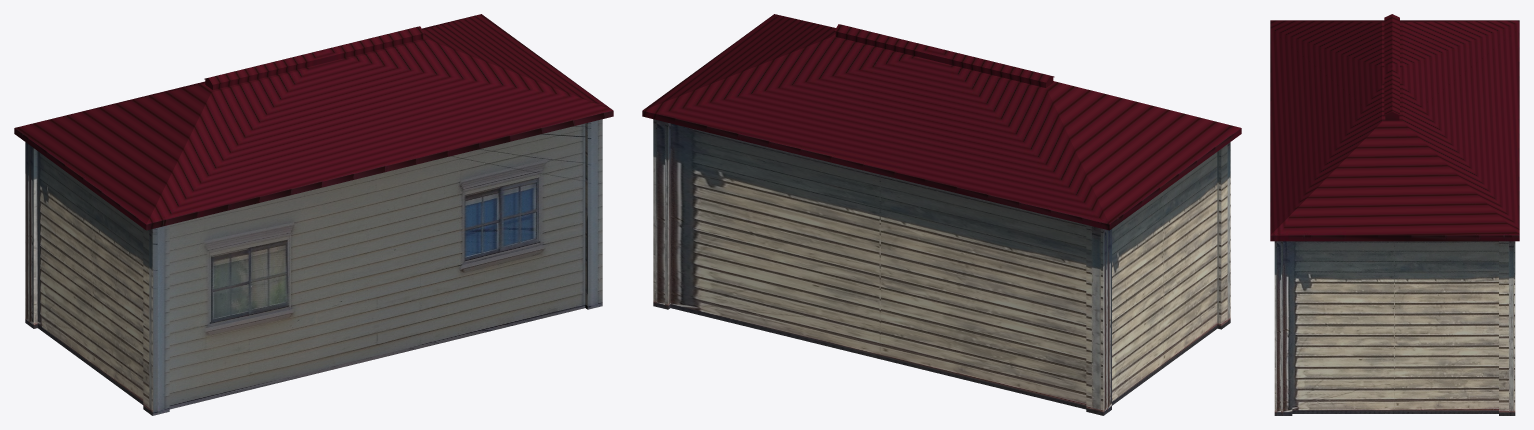
The model's file is house_top1.dae.
3 renders of one model, left to right at view 1: azimuth 30°, elevation 25°; view 2: azimuth 150°, elevation 25°; view 3: azimuth 270°, elevation 25°, orthographic. The views are drawn at different scales.
Visible parts, largest first — view 1: 立方体.3; view 2: 立方体.3; view 3: 立方体.3.
Boxes of the visible parts, x1,y1,x2,y2 form: 立方体.3: (14, 14, 613, 415); 立方体.3: (642, 14, 1241, 415); 立方体.3: (1270, 14, 1519, 415).
Size of the model in its own units: 586 by 316 by 287.
Materials: 1 (1 with a texture image).
